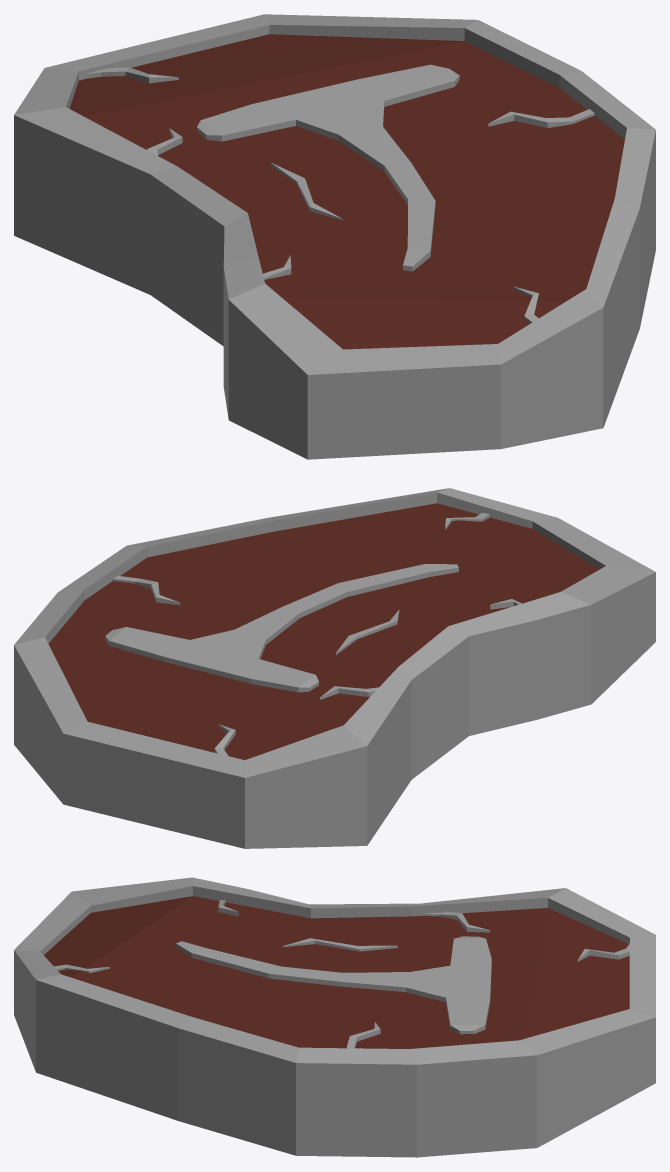
File: Steak.obj
The picture shows the model from 3 angles, top to bottom: view 1: azimuth 30°, elevation 25°; view 2: azimuth 150°, elevation 25°; view 3: azimuth 270°, elevation 25°; orthographic projection. The views are drawn at different scales.
Parts seen in each view (by area): view 1: mesh_1, mesh_0; view 2: mesh_1, mesh_0; view 3: mesh_1, mesh_0.
Part boxes in pixels (left/top/right/bottom): mesh_1: left=14, top=14, right=655, bottom=459; mesh_0: left=69, top=34, right=624, bottom=349; mesh_1: left=14, top=488, right=655, bottom=848; mesh_0: left=48, top=503, right=599, bottom=759; mesh_1: left=14, top=877, right=655, bottom=1157; mesh_0: left=44, top=896, right=629, bottom=1048.
Bounding box in the file's own units: 1.32 × 0.3397 × 1.91.
